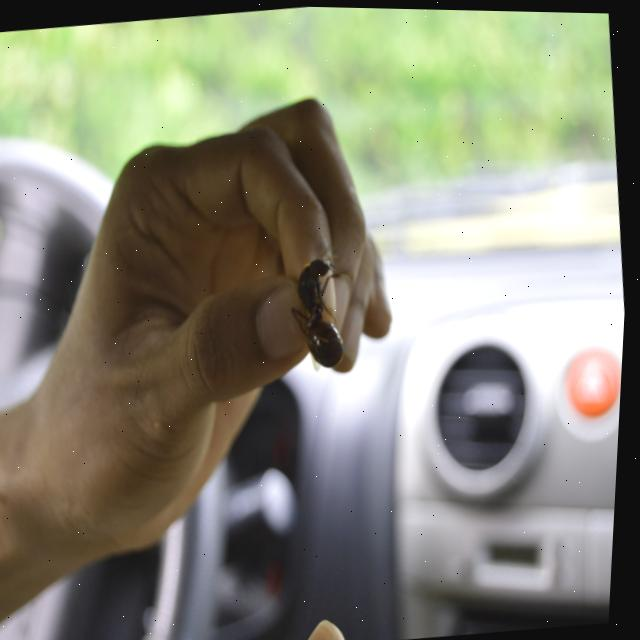Alive-Female-Alate: (284, 238, 368, 373)
